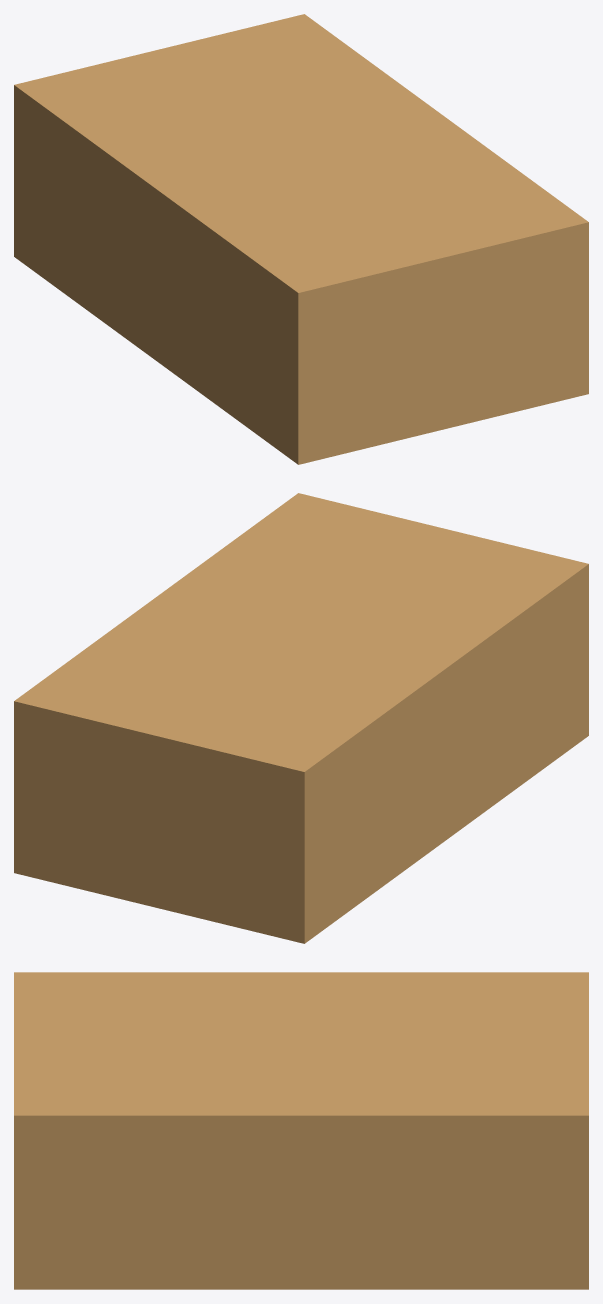
The model's file is medicine-cabinet.obj.
3 views of the same model, one above another, from view 1: azimuth 30°, elevation 25°; view 2: azimuth 150°, elevation 25°; view 3: azimuth 270°, elevation 25° (orthographic).
Visible parts, largest first — view 1: medicine-cabinet; view 2: medicine-cabinet; view 3: medicine-cabinet.
Part boxes in pixels (left/top/right/bottom): medicine-cabinet: left=14, top=14, right=588, bottom=464; medicine-cabinet: left=14, top=493, right=588, bottom=943; medicine-cabinet: left=14, top=972, right=588, bottom=1289.
Bounding box in the file's own units: 14.15 × 8 × 24.
